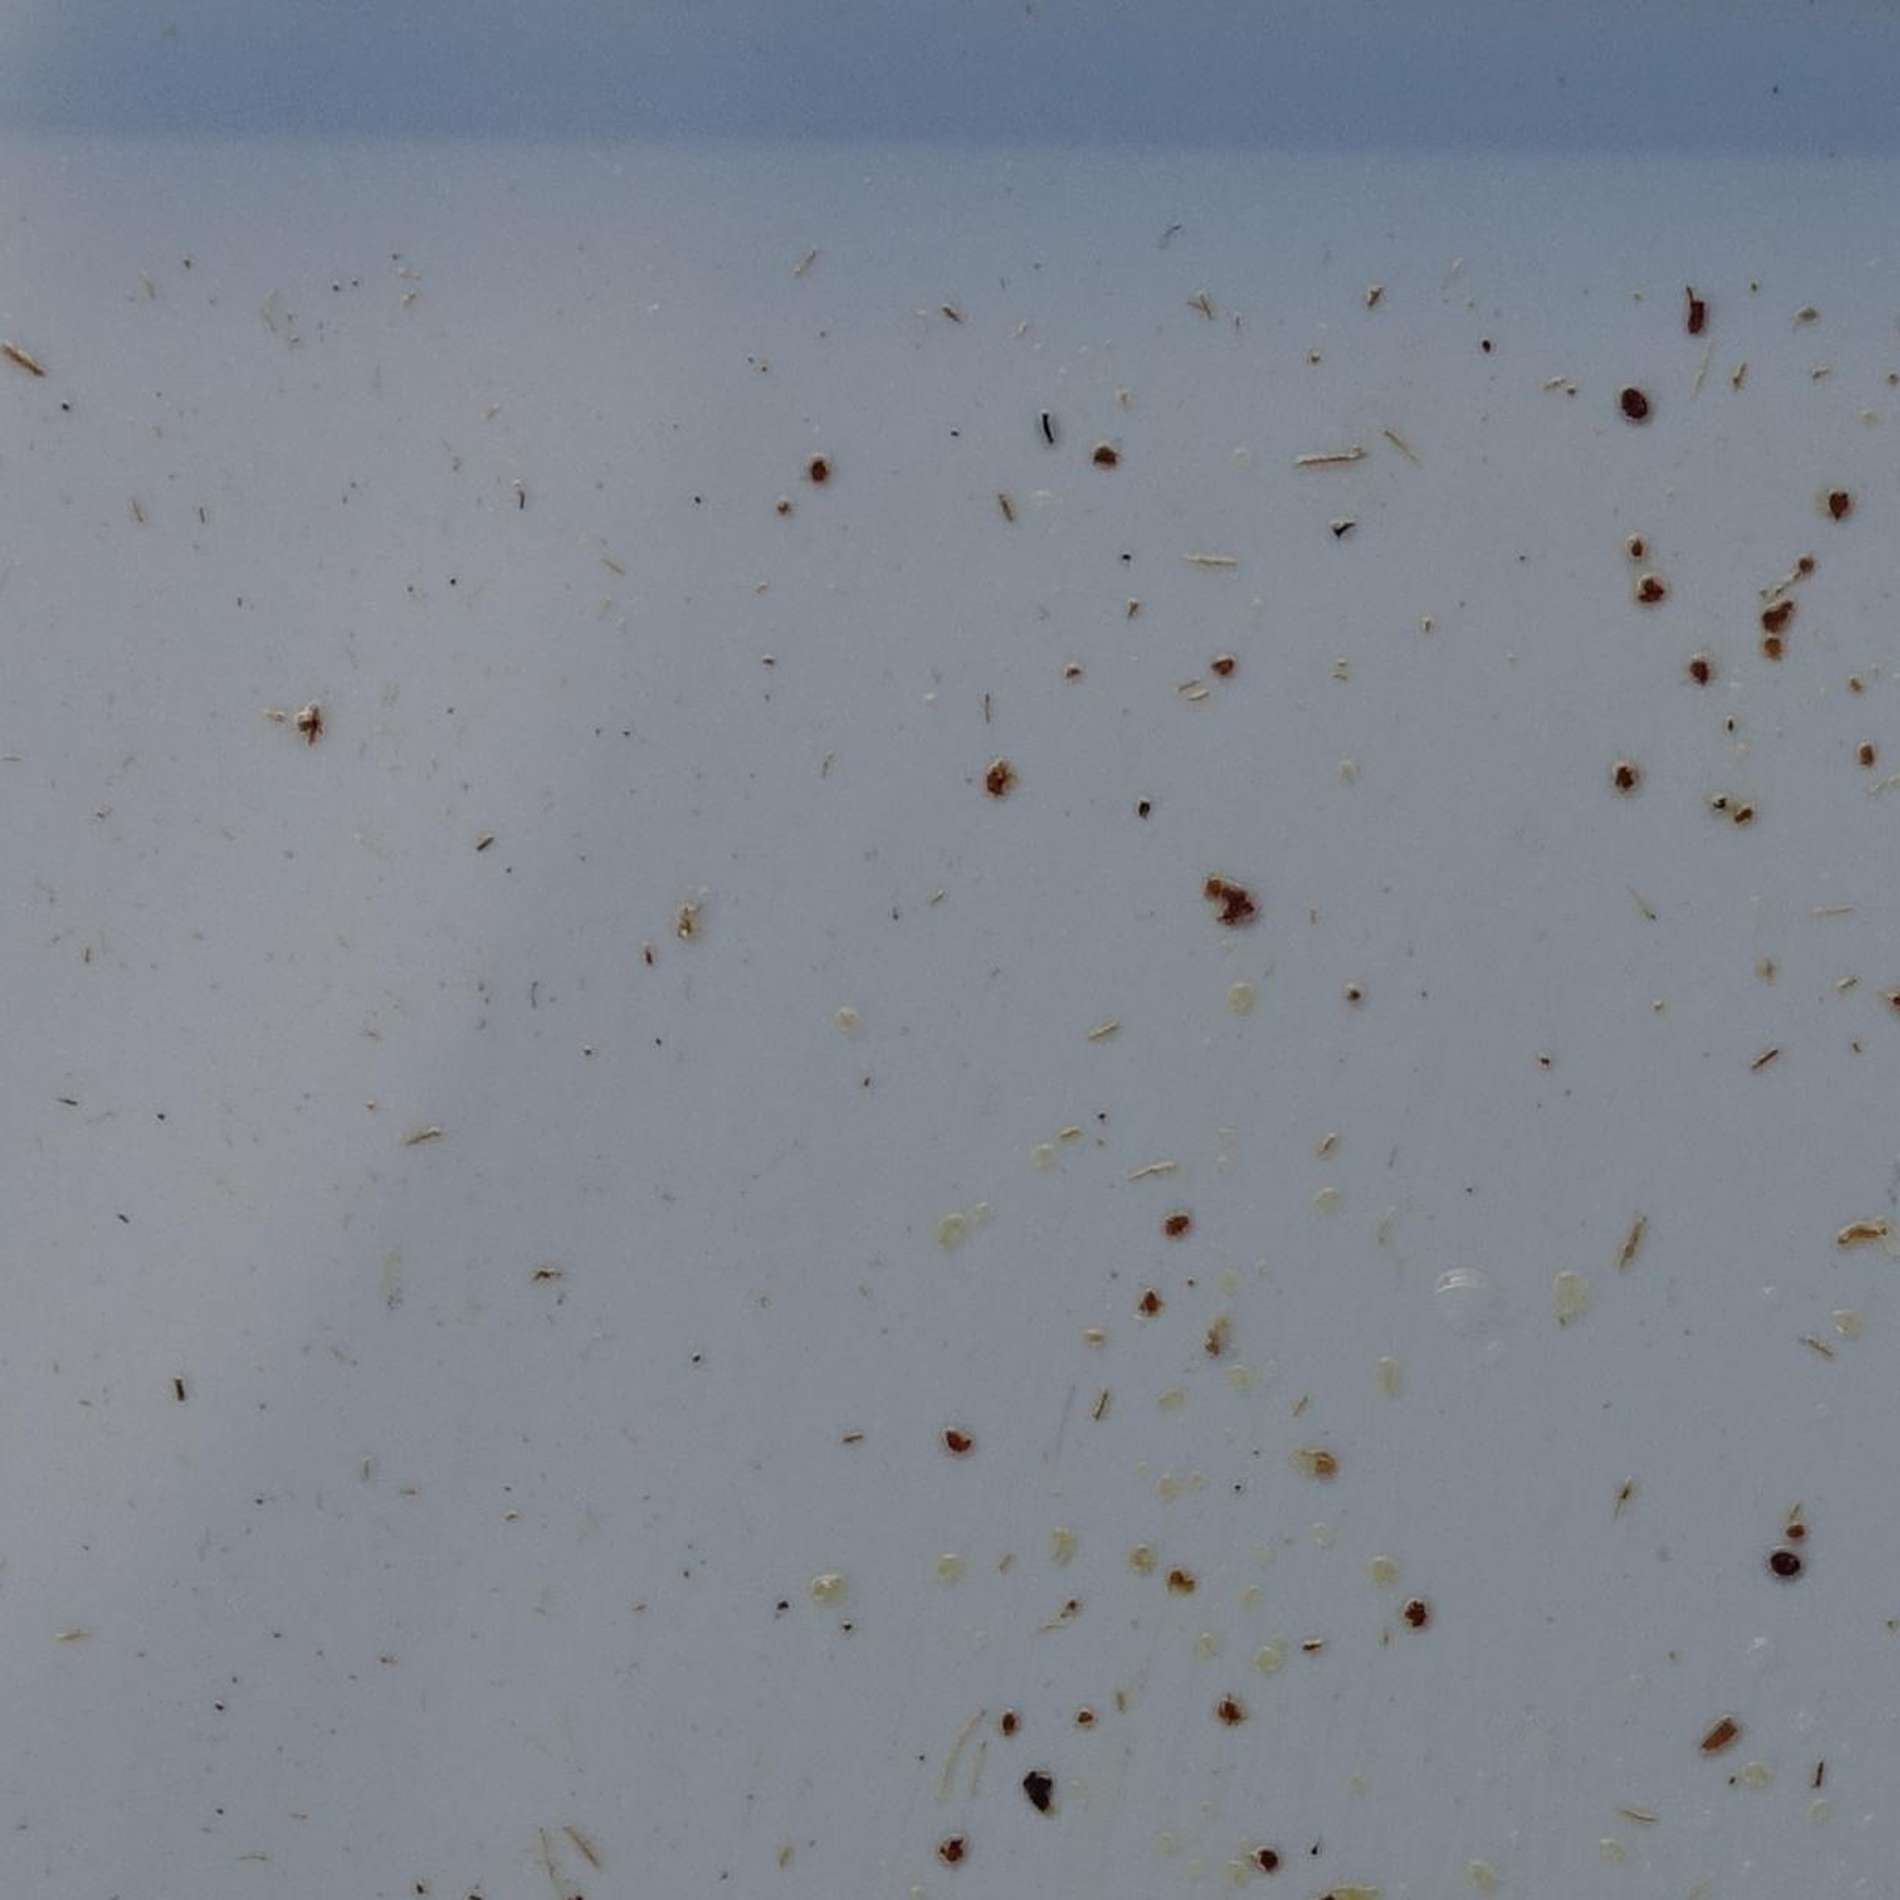Varroa: (1625, 393, 1644, 412), (1776, 1554, 1794, 1571)
